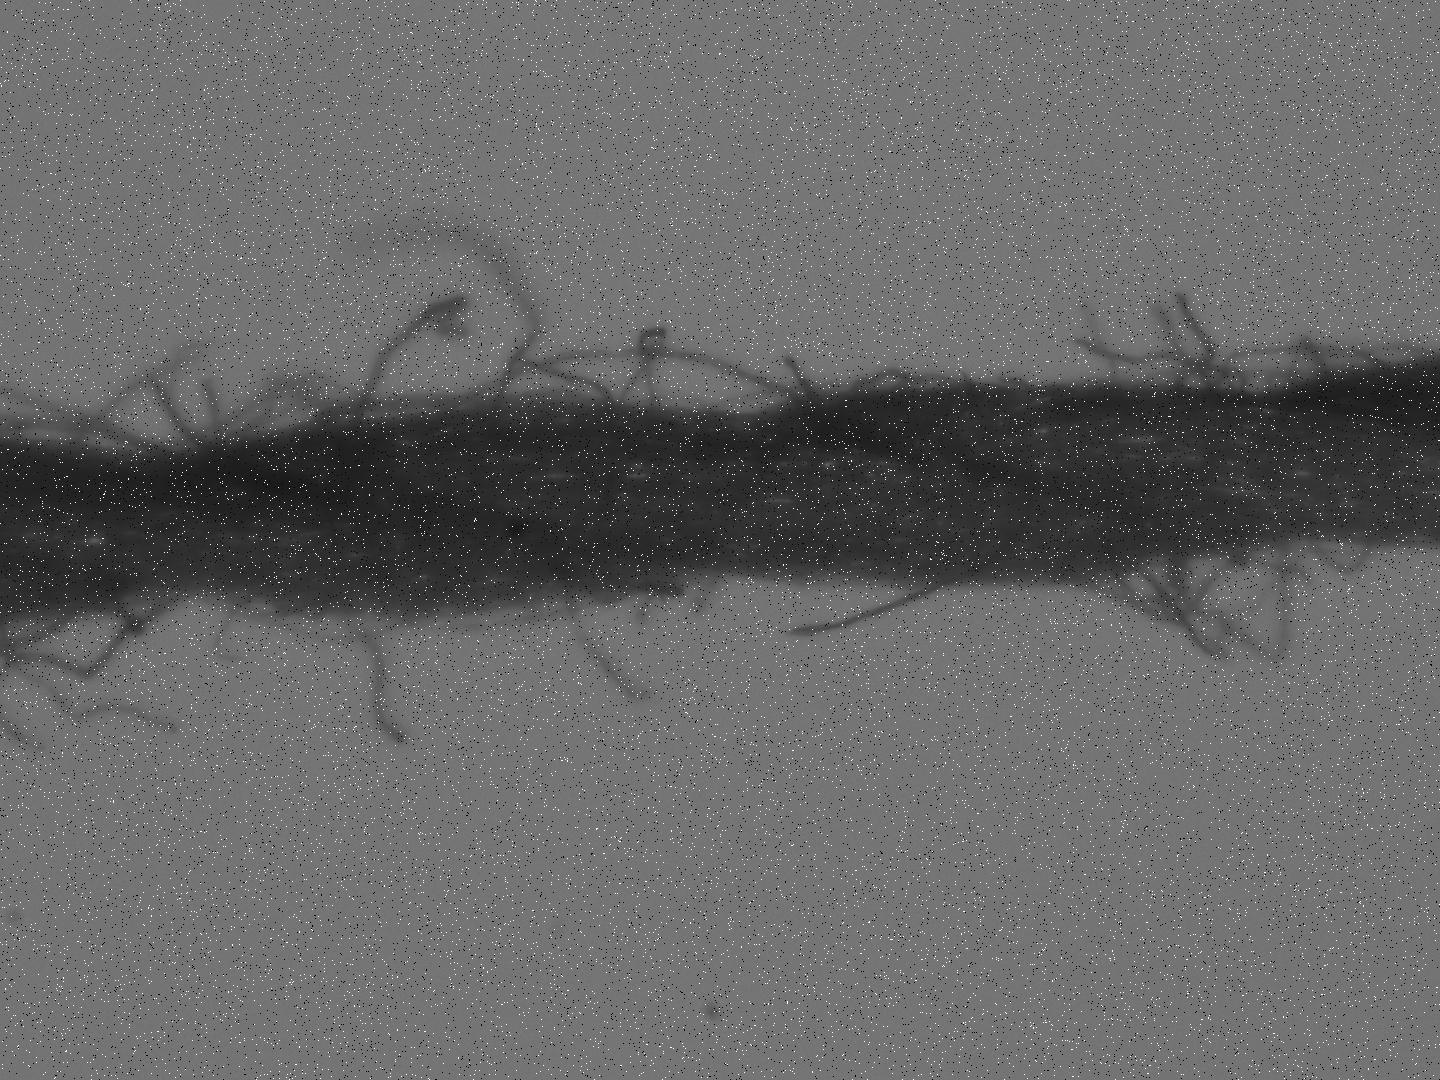loop_fiber: (420, 339, 801, 420), (1167, 543, 1295, 663), (1204, 338, 1398, 397), (483, 357, 624, 428), (1305, 537, 1378, 575)
protruding_fiber: (356, 221, 542, 407), (303, 292, 476, 427), (774, 554, 1002, 642), (557, 569, 668, 708), (347, 614, 417, 752), (1170, 282, 1227, 391), (206, 590, 260, 665)
